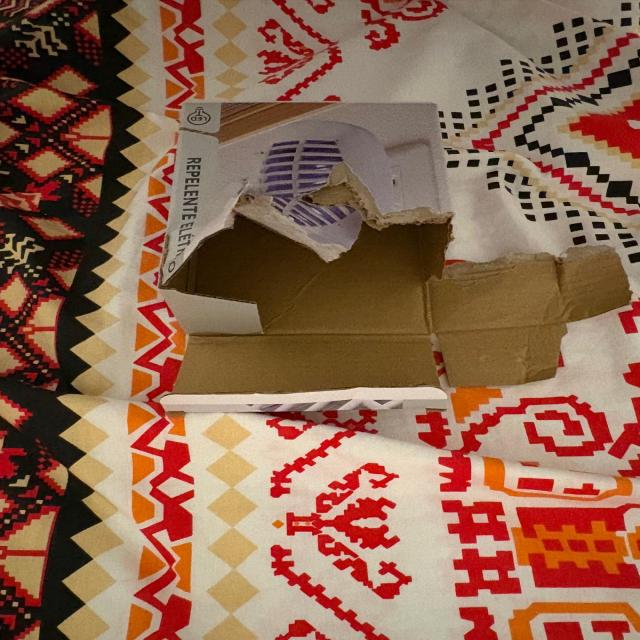damaged_package: (158, 104, 632, 412)
